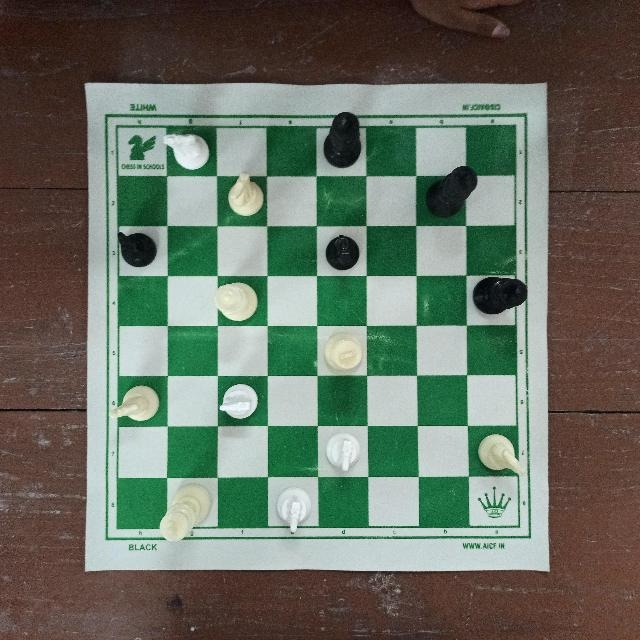black-king: (424, 160, 481, 220), (319, 105, 367, 173), (471, 269, 532, 318)
black-knight: (110, 226, 160, 274), (324, 229, 364, 271)
white-king: (157, 481, 219, 547), (322, 331, 365, 378)
white-knight: (108, 381, 169, 428), (315, 424, 370, 475), (268, 482, 322, 532), (161, 127, 219, 173), (472, 434, 528, 478), (217, 173, 264, 225), (213, 384, 267, 426)
white-queen: (211, 279, 260, 327)
